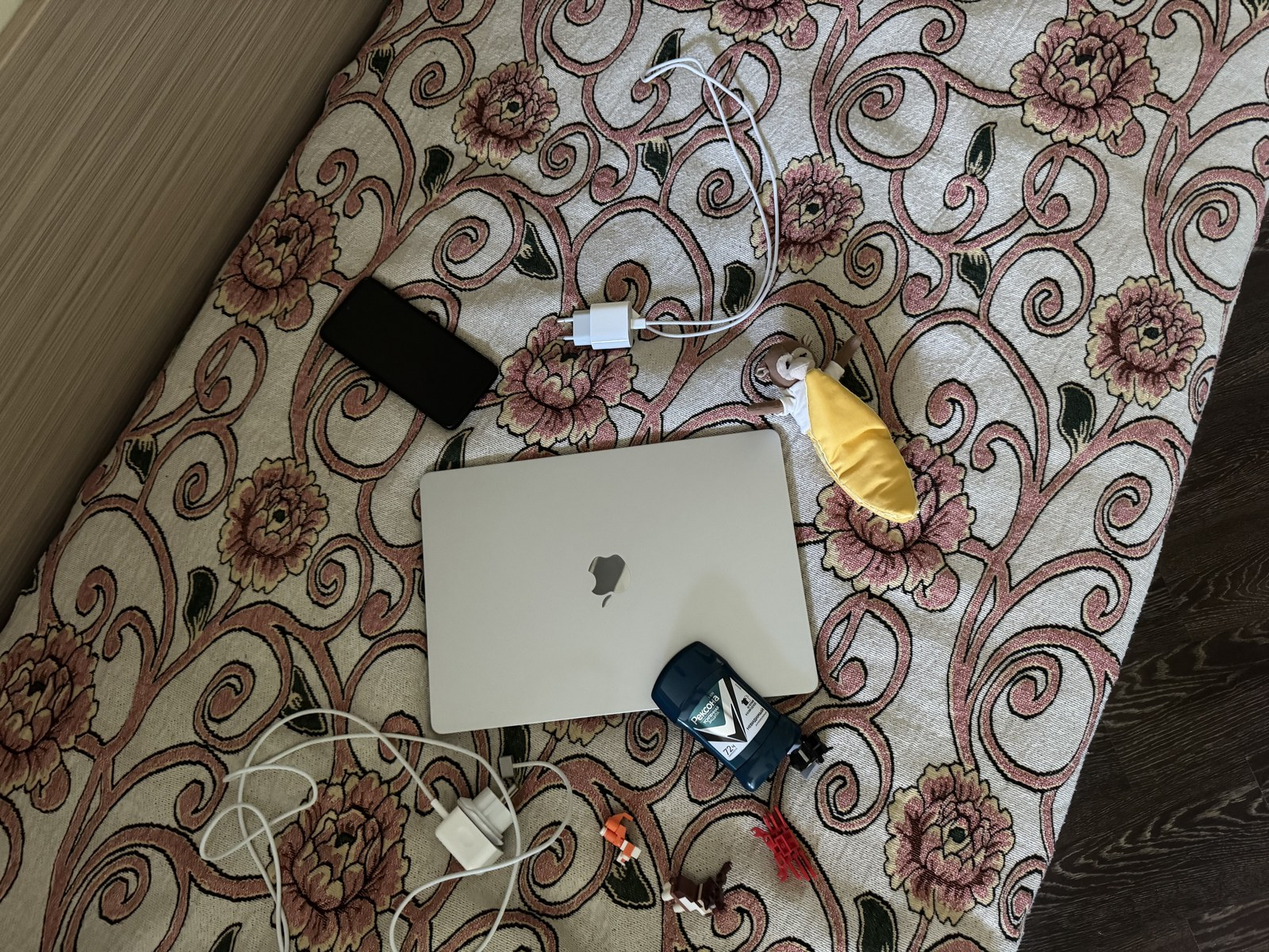cell phone: (318, 276, 500, 430)
laptop: (419, 428, 820, 735)
